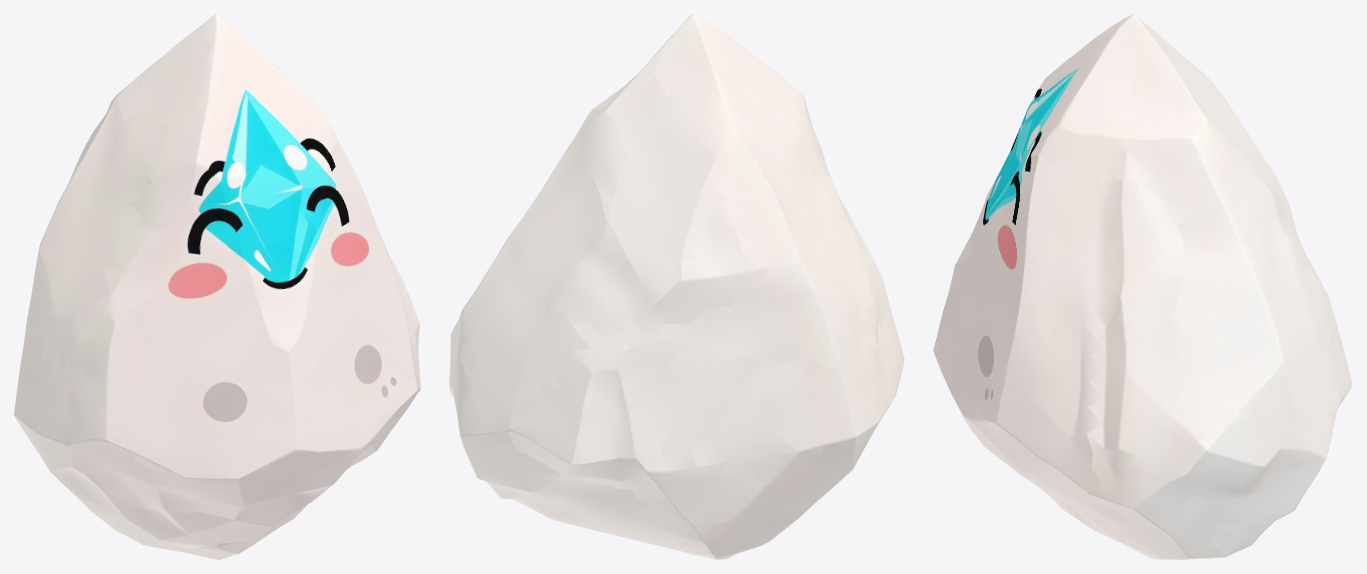
File: s1_gen_ice_crystal.glb
The picture shows the model from 3 angles, left to right: view 1: azimuth 30°, elevation 25°; view 2: azimuth 150°, elevation 25°; view 3: azimuth 270°, elevation 25°; orthographic projection. The views are drawn at different scales.
Size of the model in its own units: 1.43 by 1.9 by 1.36.
1 material, 1 textured.
